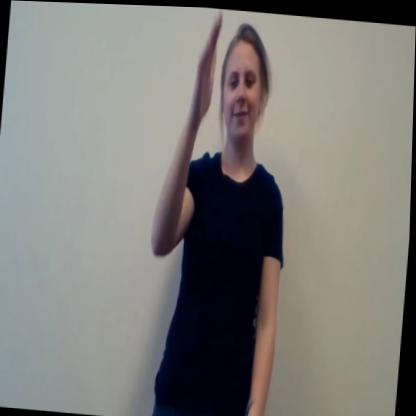Hello: (159, 5, 291, 212)
